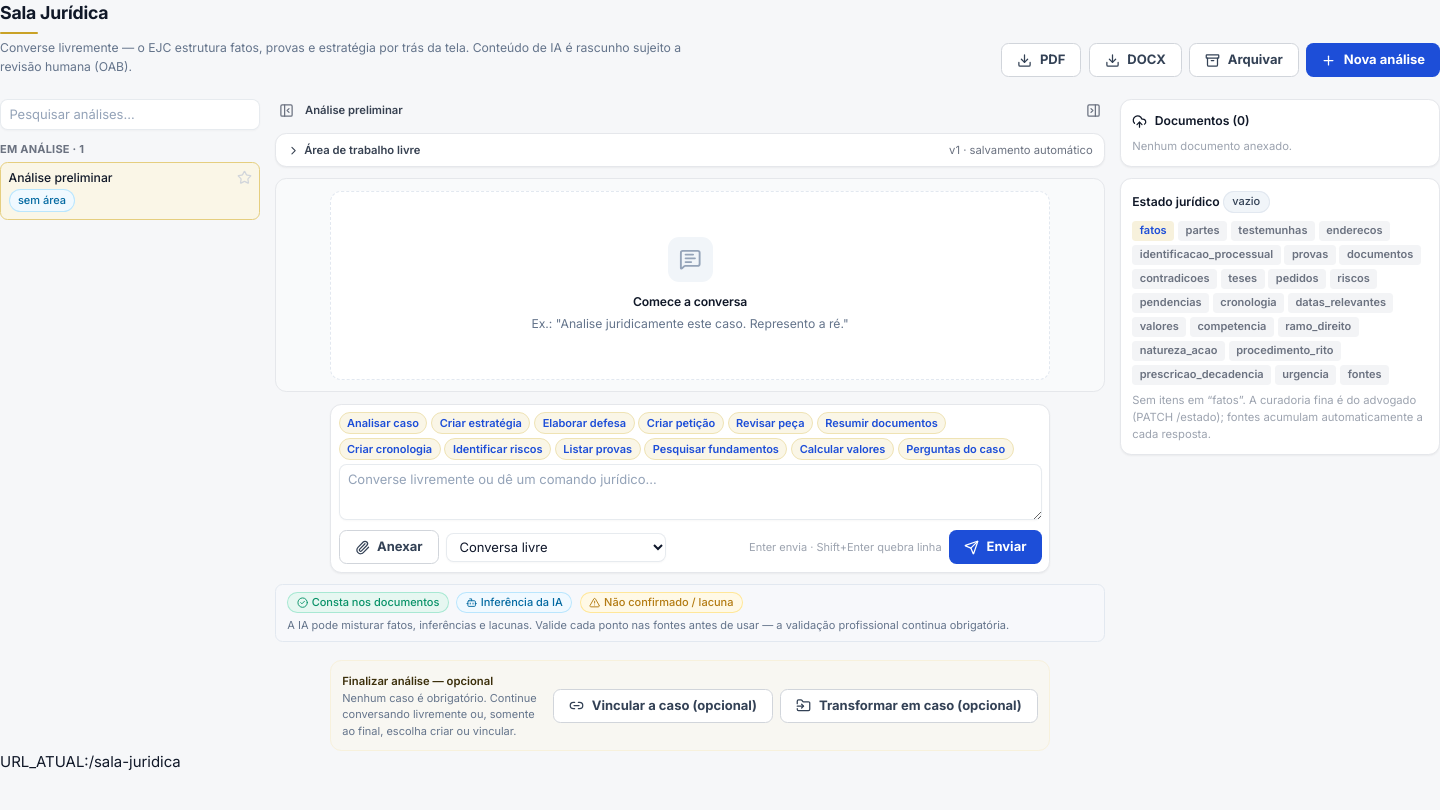
Scenario: Sala Jurídica — wizard de conversão › exibe o alerta de conflito devolvido pelo preview
expect the text "Análise preliminar" below "Em análise" is shown: met, box [8,170,112,185]
Click the button "Transformar em caso (opcional)" at [909, 706], box [780,689,1038,723]
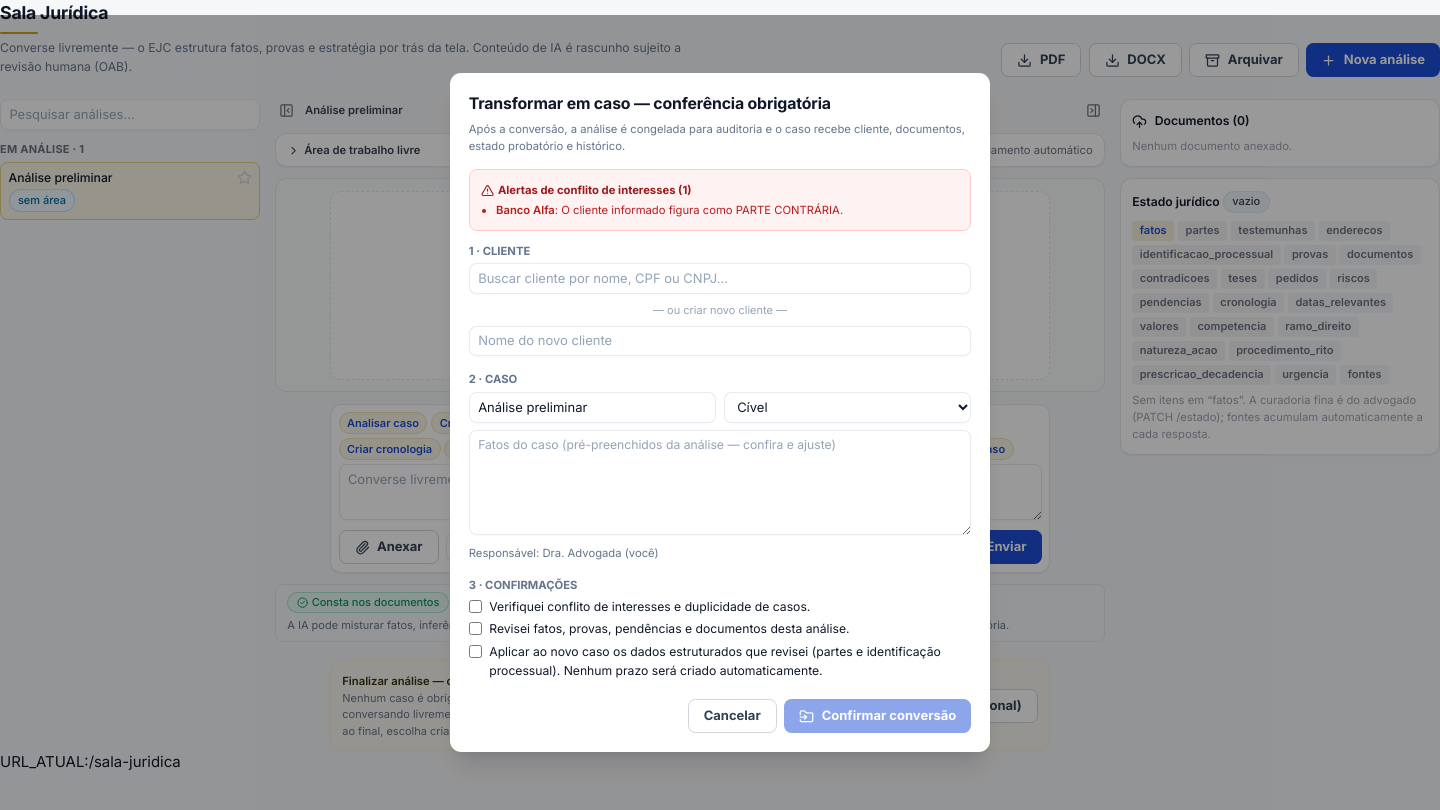
expect the heading "Transformar em caso — conferência obrigatória" is shown: met, box [469,94,831,113]
expect the text "Alertas de conflito de interesses (1)" is shown: met, box [481,183,692,197]
expect the list item "Banco Alfa: O cliente informado figura como PARTE CONTRÁRIA." is shown: met, box [496,203,843,217]
